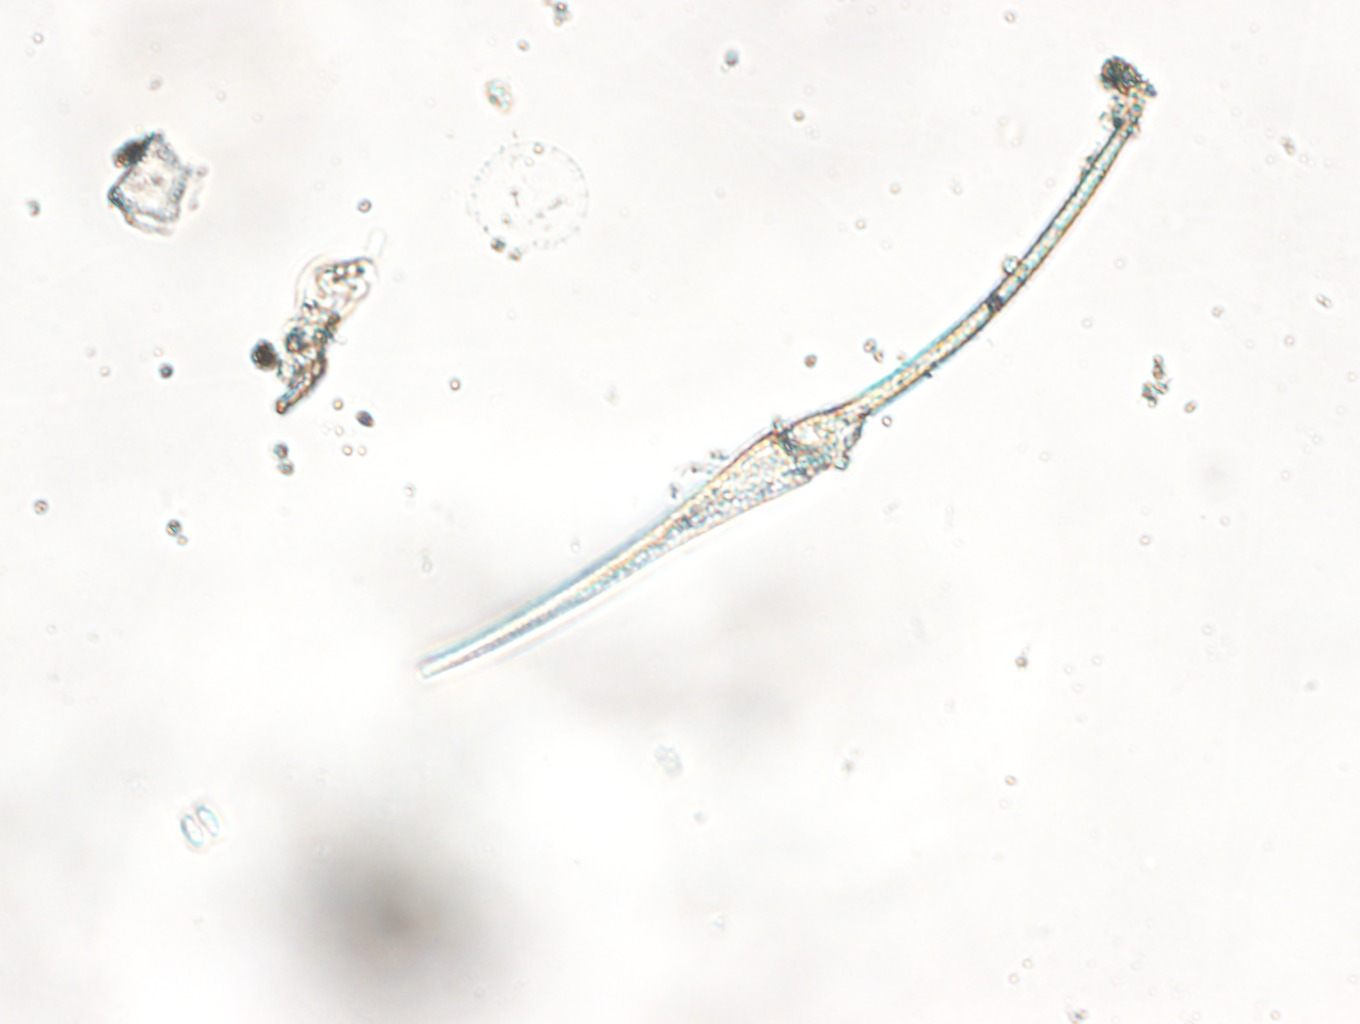ceratium fusus: (415, 102, 1144, 678)
